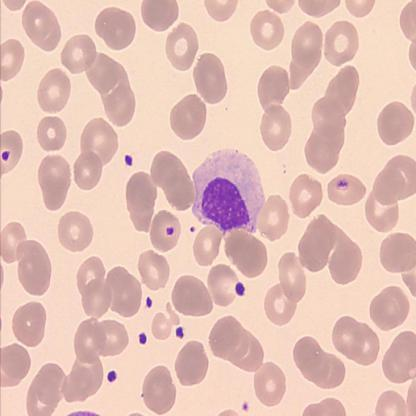Metamyelocyte: (189, 146, 268, 236)
